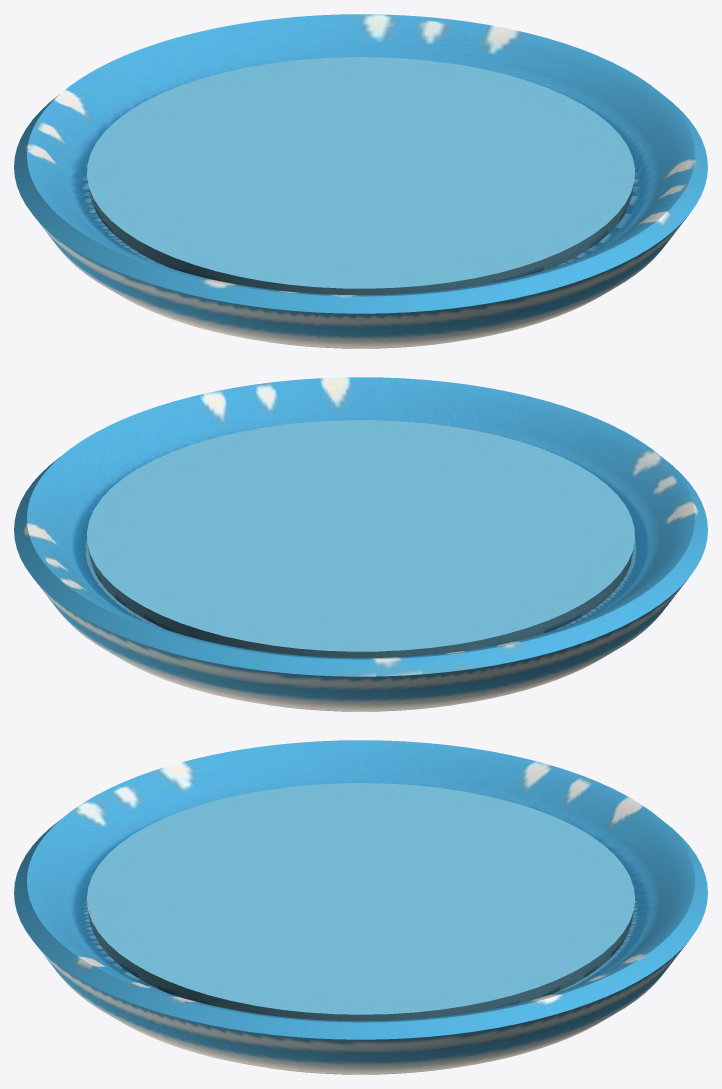
Rendered from water_bowl.glb.
3 renders of one model, top to bottom at view 1: azimuth 30°, elevation 25°; view 2: azimuth 150°, elevation 25°; view 3: azimuth 270°, elevation 25°, orthographic.
Visible parts, largest first — view 1: water_bowl; view 2: water_bowl; view 3: water_bowl.
Boxes of the visible parts, left/top/right/bottom form: water_bowl: left=14, top=14, right=707, bottom=348; water_bowl: left=14, top=377, right=707, bottom=711; water_bowl: left=14, top=740, right=707, bottom=1074.
Bounding box in the file's own units: 0.324 × 0.039 × 0.324.
Materials: 1 (1 with a texture image).
